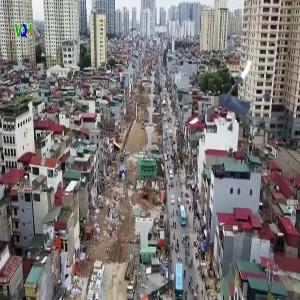drone: (192, 49, 288, 145)
